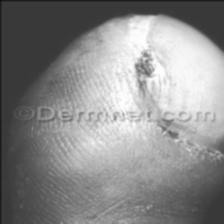Toxin: (114, 12, 224, 106), (146, 123, 224, 169)
